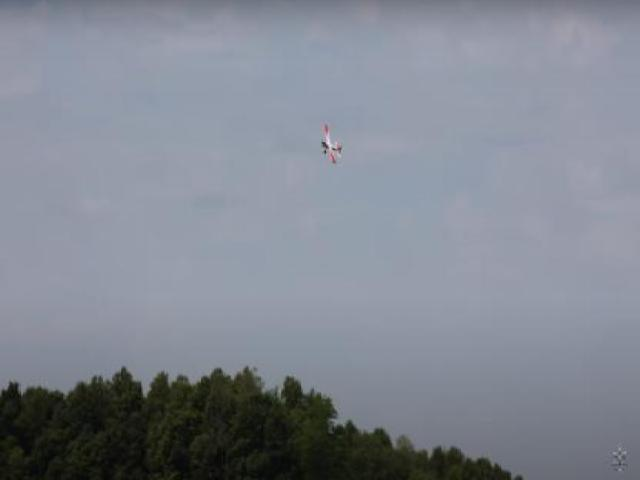uav: (319, 117, 347, 171)
